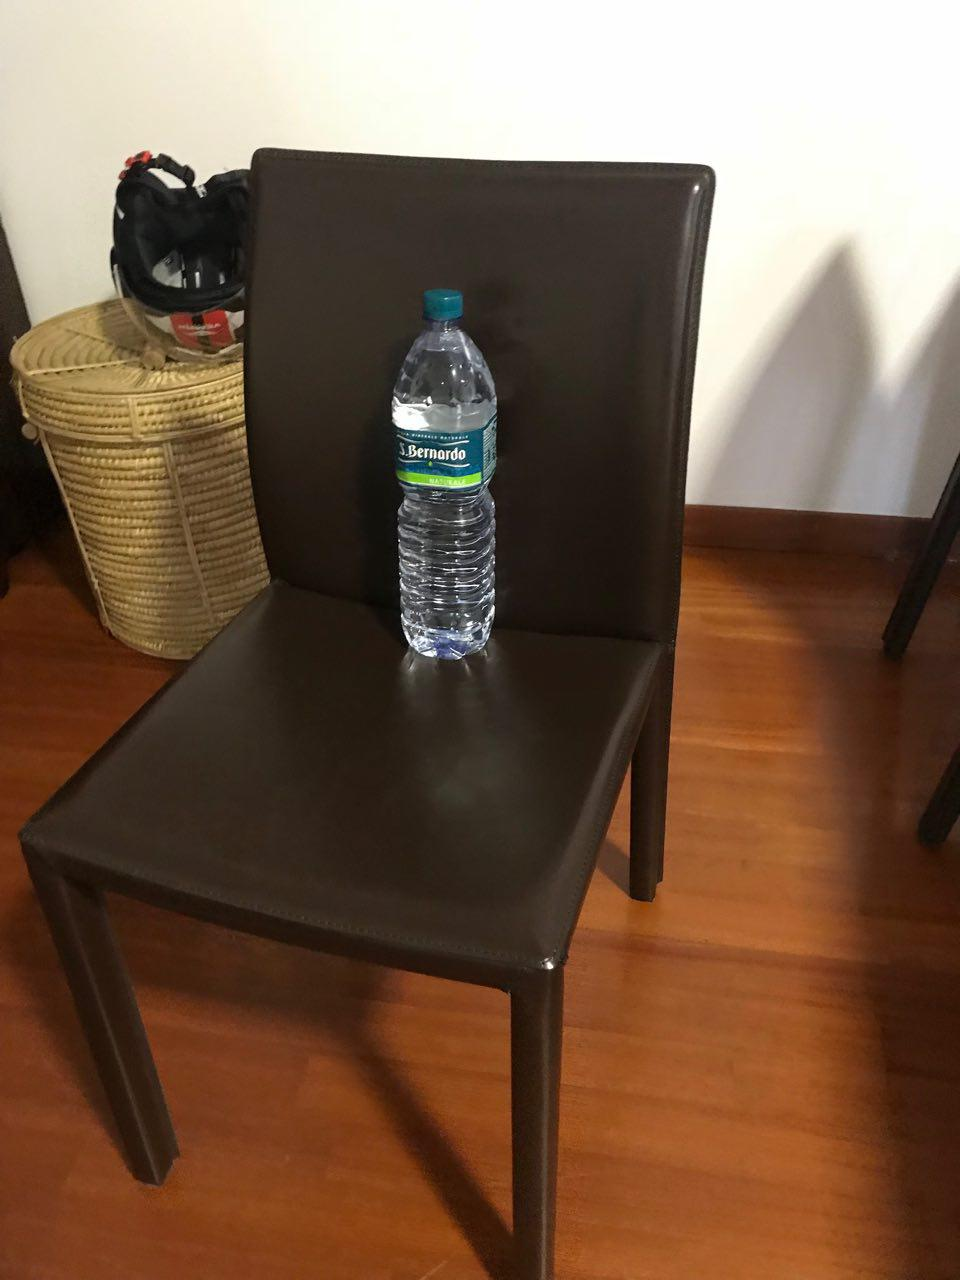san_bernardo: (390, 287, 497, 658)
